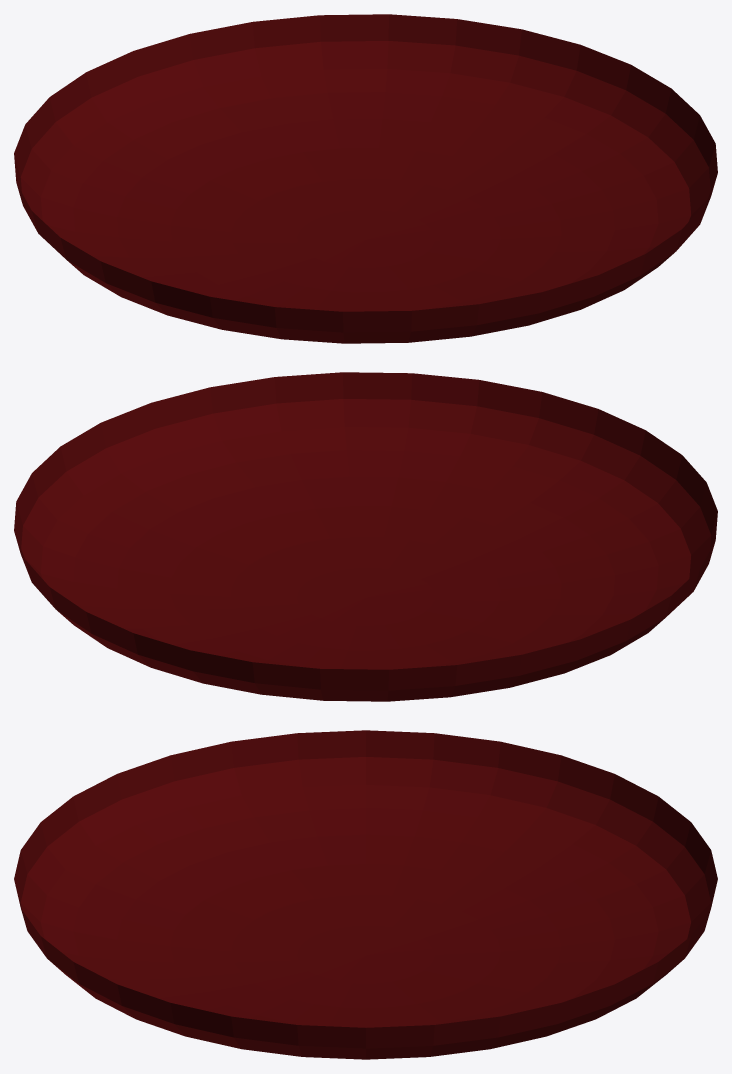
The model's file is HamburguesaInferior.fbx.
3 renders of one model, top to bottom at view 1: azimuth 30°, elevation 25°; view 2: azimuth 150°, elevation 25°; view 3: azimuth 270°, elevation 25°, orthographic.
Parts seen in each view (by area): view 1: Sphere; view 2: Sphere; view 3: Sphere.
Part boxes in pixels (<box>): Sphere: <box>14,14,717,343</box>; Sphere: <box>14,372,717,701</box>; Sphere: <box>14,730,717,1059</box>.
Size of the model in its own units: 163 by 19.61 by 163.
